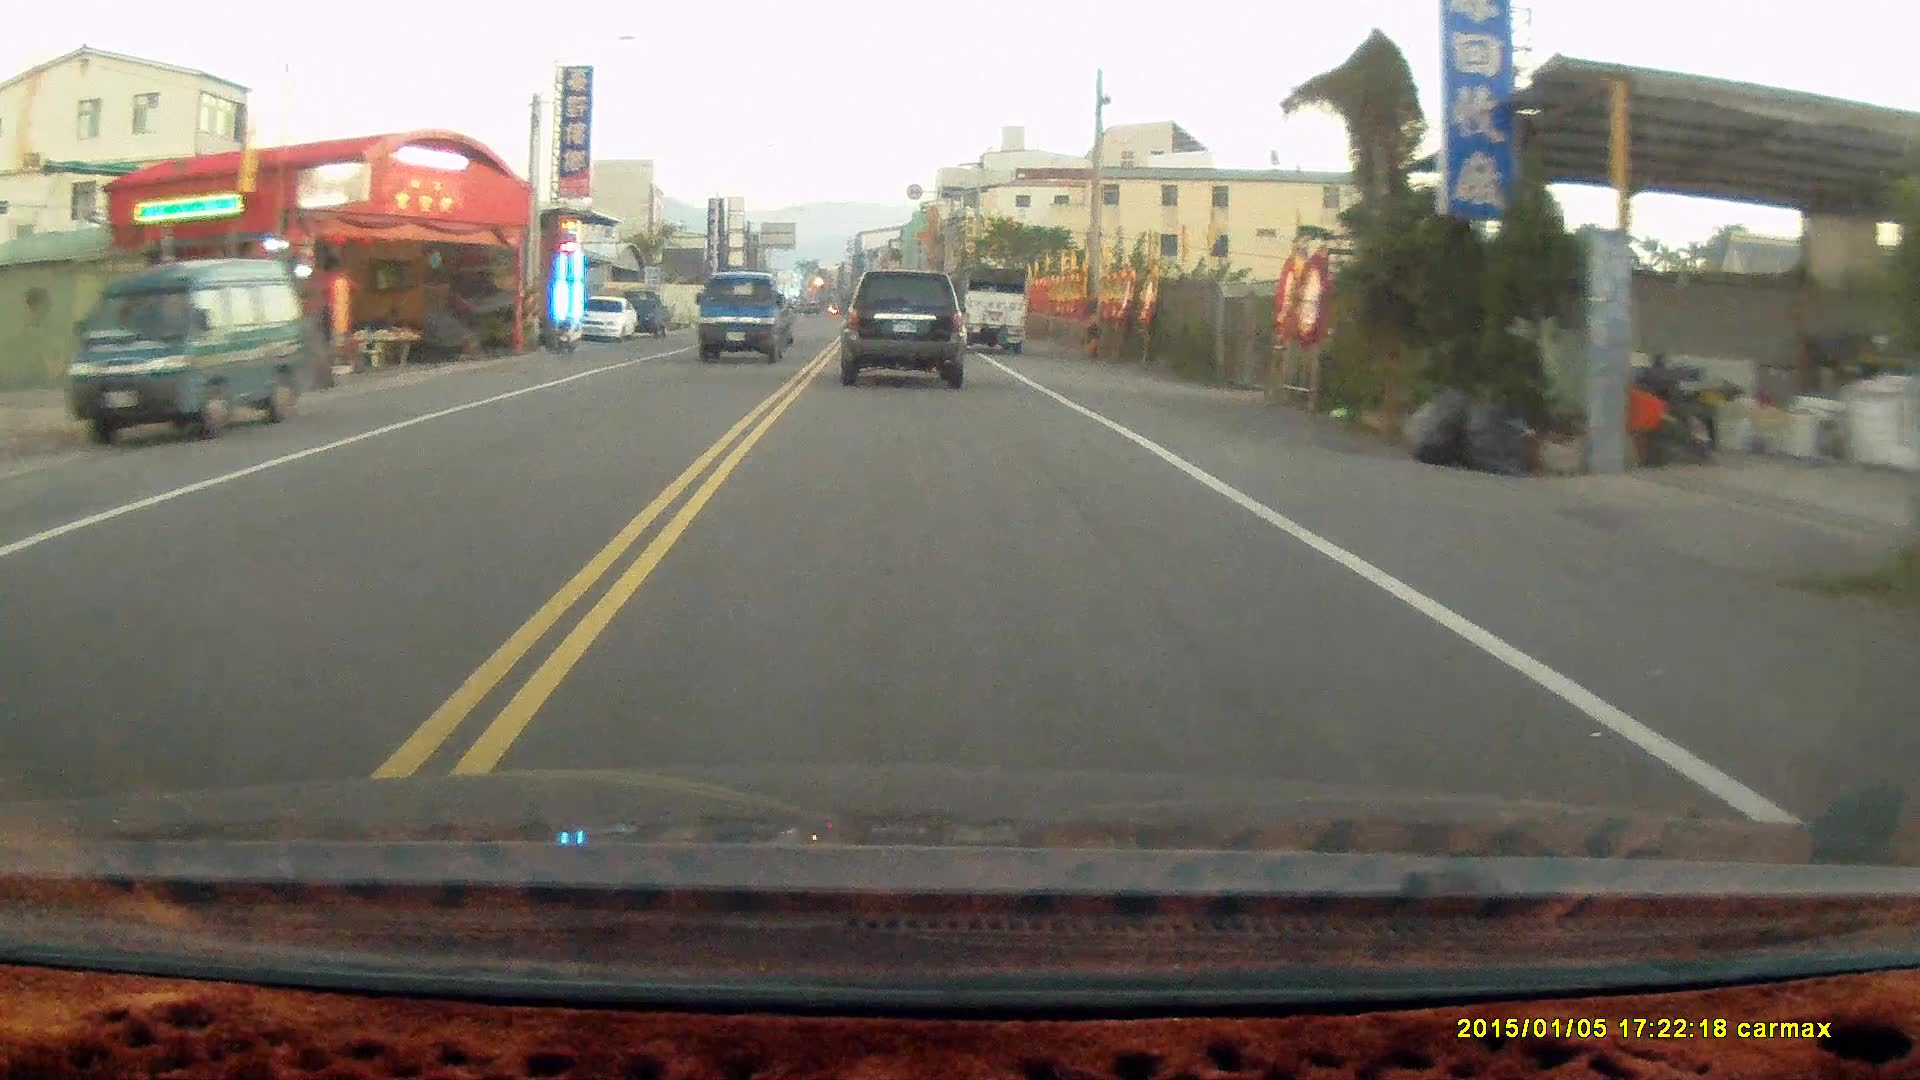vehicle: (65, 256, 303, 450), (841, 269, 967, 386), (696, 266, 796, 363), (938, 264, 1031, 355), (578, 295, 640, 342)
